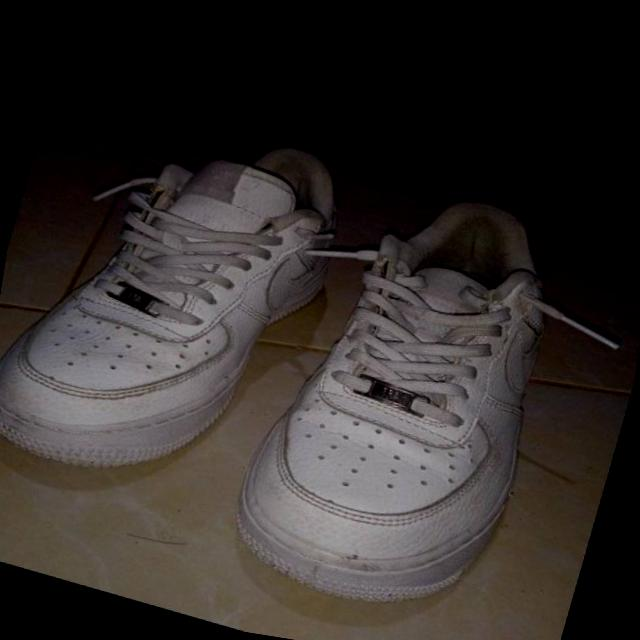nike_fake_airforce: (213, 147, 598, 640), (0, 73, 373, 530)
